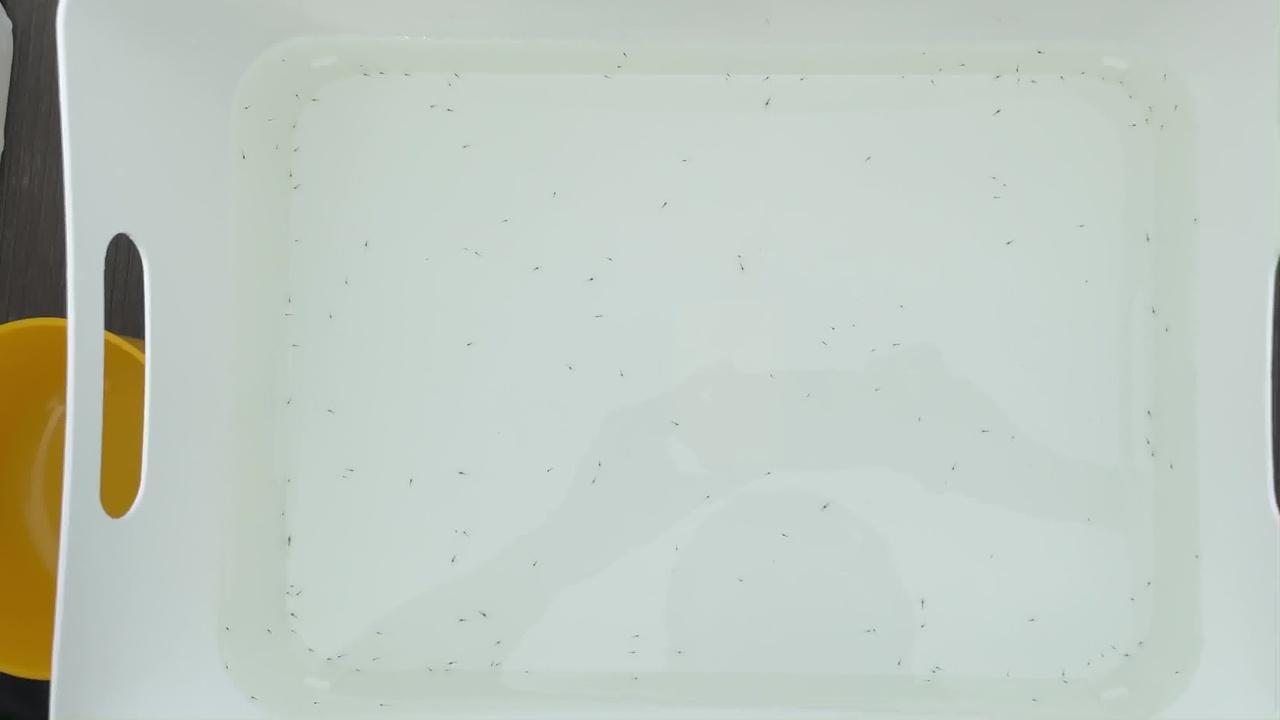shrimp: (239, 152, 251, 160), (241, 104, 253, 112), (264, 117, 276, 125), (272, 144, 284, 152), (287, 174, 299, 182), (293, 186, 305, 194), (290, 148, 302, 156), (289, 122, 301, 130), (292, 92, 304, 100), (309, 97, 321, 105), (360, 74, 372, 82), (375, 70, 387, 78), (401, 73, 413, 81), (425, 104, 437, 112), (443, 108, 455, 116), (443, 81, 455, 89), (450, 73, 462, 81), (459, 141, 471, 149), (362, 243, 374, 251), (340, 280, 352, 288), (326, 314, 338, 322), (284, 294, 296, 302), (282, 312, 294, 320), (288, 344, 300, 352), (464, 338, 476, 346), (472, 249, 484, 257), (501, 217, 513, 225), (533, 265, 545, 273), (586, 276, 598, 284), (596, 312, 608, 320), (566, 365, 578, 373), (605, 255, 617, 263), (548, 191, 560, 199), (659, 202, 671, 210), (679, 159, 691, 167), (599, 75, 611, 83), (612, 63, 624, 71), (618, 51, 630, 59), (723, 70, 735, 78), (764, 74, 776, 82), (764, 97, 776, 105), (797, 74, 809, 82), (736, 264, 748, 272), (733, 253, 745, 261), (864, 157, 876, 165), (926, 78, 938, 86), (936, 64, 948, 72), (920, 51, 932, 59), (958, 61, 970, 69), (994, 73, 1006, 81), (992, 108, 1004, 116), (1013, 66, 1025, 74), (1015, 79, 1027, 87), (1029, 79, 1041, 87), (1034, 48, 1046, 56), (1058, 74, 1070, 82), (1076, 69, 1088, 77), (1114, 78, 1126, 86), (1126, 93, 1138, 101), (1129, 117, 1141, 125), (1140, 117, 1152, 125), (1156, 124, 1168, 132), (1144, 104, 1156, 112), (1173, 104, 1185, 112), (1158, 74, 1170, 82), (988, 174, 1000, 182), (990, 195, 1002, 203), (1005, 241, 1017, 249), (1076, 221, 1088, 229), (1143, 236, 1155, 244), (1189, 215, 1201, 223), (1148, 308, 1160, 316), (1163, 328, 1175, 336), (1144, 408, 1156, 416), (1144, 437, 1156, 445), (1149, 451, 1161, 459), (1166, 462, 1178, 470), (1007, 434, 1019, 442), (980, 428, 992, 436), (949, 465, 961, 473), (912, 415, 924, 423), (869, 388, 881, 396), (868, 347, 880, 355), (889, 340, 901, 348), (896, 300, 908, 308), (849, 323, 861, 331), (830, 325, 842, 333), (818, 343, 830, 351), (804, 394, 816, 402), (764, 371, 776, 379), (615, 371, 627, 379), (671, 421, 683, 429), (1193, 552, 1205, 560), (1145, 581, 1157, 589), (1129, 595, 1141, 603), (1136, 640, 1148, 648), (1170, 667, 1182, 675), (1123, 651, 1135, 659), (1108, 644, 1120, 652), (1097, 653, 1109, 661), (1085, 659, 1097, 667), (1061, 680, 1073, 688), (1059, 670, 1071, 678), (1029, 700, 1041, 708), (1004, 670, 1016, 678), (1027, 616, 1039, 624), (934, 664, 946, 672), (928, 670, 940, 678), (921, 681, 933, 689), (892, 660, 904, 668), (868, 628, 880, 636), (863, 630, 875, 638), (919, 624, 931, 632), (917, 600, 929, 608), (987, 551, 999, 559), (822, 503, 834, 511), (779, 532, 791, 540), (735, 577, 747, 585), (763, 471, 775, 479), (703, 494, 715, 502), (673, 545, 685, 553), (675, 651, 687, 659), (631, 634, 643, 642), (627, 650, 639, 658), (632, 676, 644, 684), (521, 671, 533, 679), (494, 661, 506, 669), (486, 663, 498, 671), (494, 640, 506, 648), (478, 610, 490, 618), (456, 617, 468, 625), (447, 659, 459, 667), (441, 671, 453, 679), (426, 666, 438, 674), (530, 560, 542, 568), (504, 539, 516, 547), (448, 558, 460, 566), (462, 529, 474, 537), (451, 529, 463, 537), (457, 468, 469, 476), (543, 467, 555, 475), (590, 479, 602, 487), (595, 460, 607, 468), (408, 479, 420, 487), (338, 474, 350, 482), (344, 466, 356, 474), (323, 407, 335, 415), (282, 399, 294, 407), (285, 478, 297, 486), (279, 511, 291, 519), (285, 538, 297, 546), (287, 584, 299, 592), (294, 590, 306, 598), (282, 590, 294, 598), (288, 612, 300, 620), (265, 629, 277, 637), (224, 623, 236, 631), (223, 665, 235, 673), (247, 695, 259, 703), (311, 700, 323, 708), (288, 628, 300, 636), (304, 646, 316, 654), (323, 658, 335, 666), (338, 652, 350, 660), (354, 670, 366, 678), (370, 656, 382, 664), (373, 628, 385, 636), (379, 704, 391, 712), (423, 258, 435, 266), (290, 239, 302, 247)
